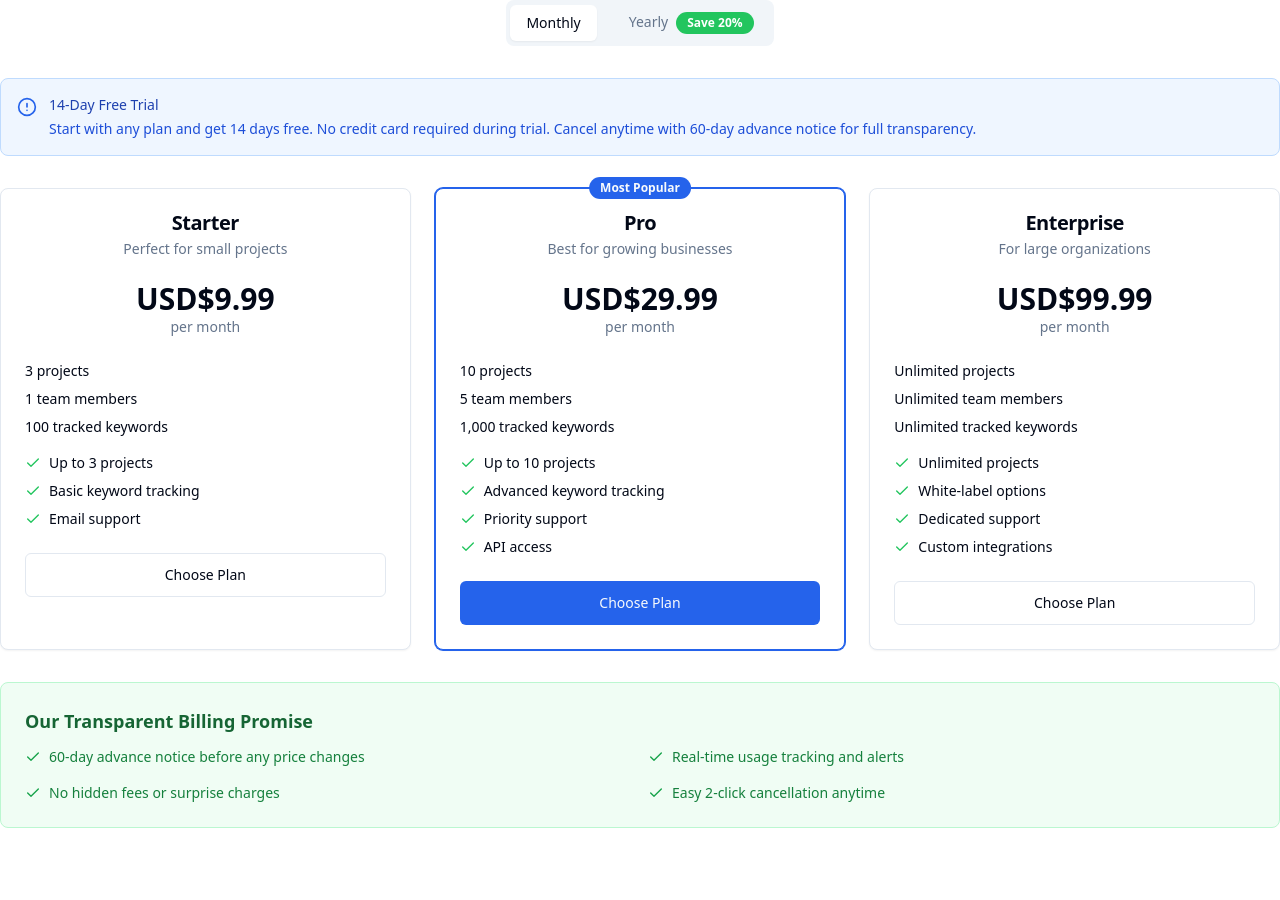
Test case: PricingPlans Component › Billing Interval Toggle › should switch to yearly plans when yearly is selected
Click the button "Yearly Save 20%" at (691, 23), box [613,4,770,42]
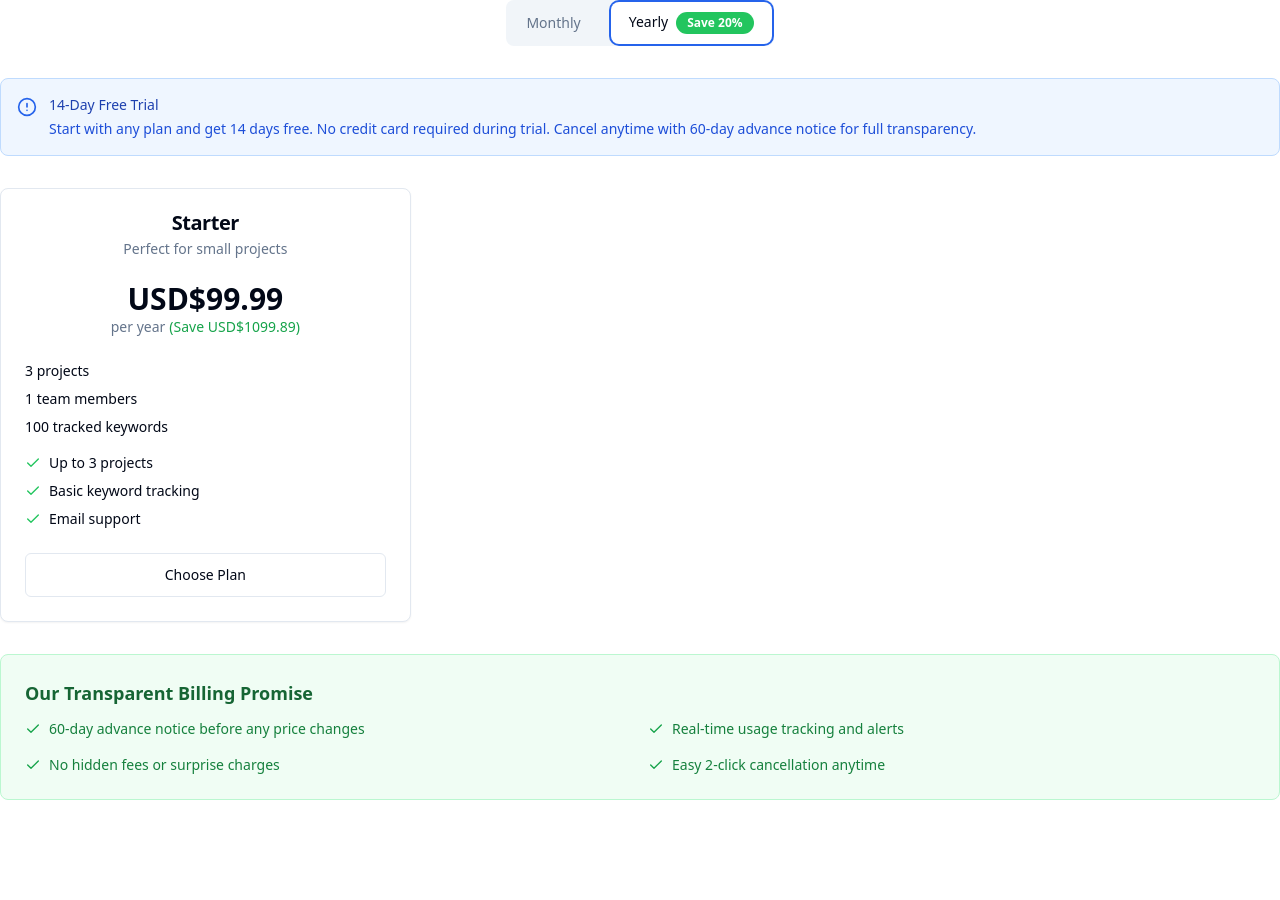
Check: the text "USD$99.99" is shown, box [127,278,283,319]
Check: the text "USD$9.99" is gone
